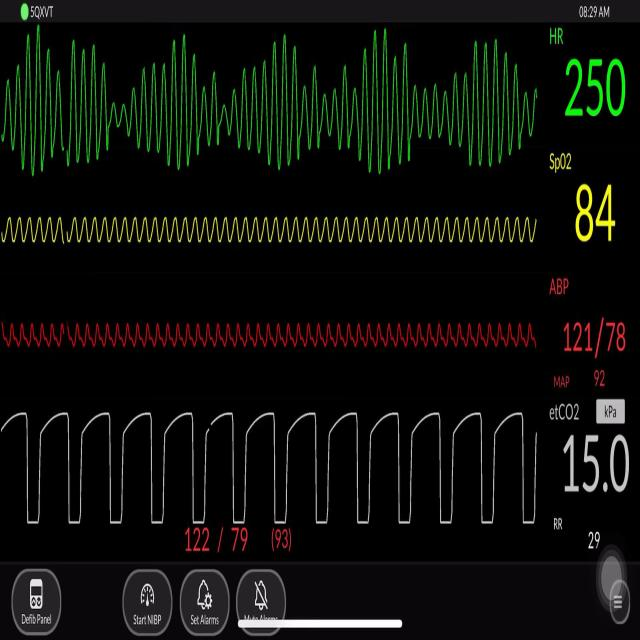danger: (7, 31, 536, 182)
